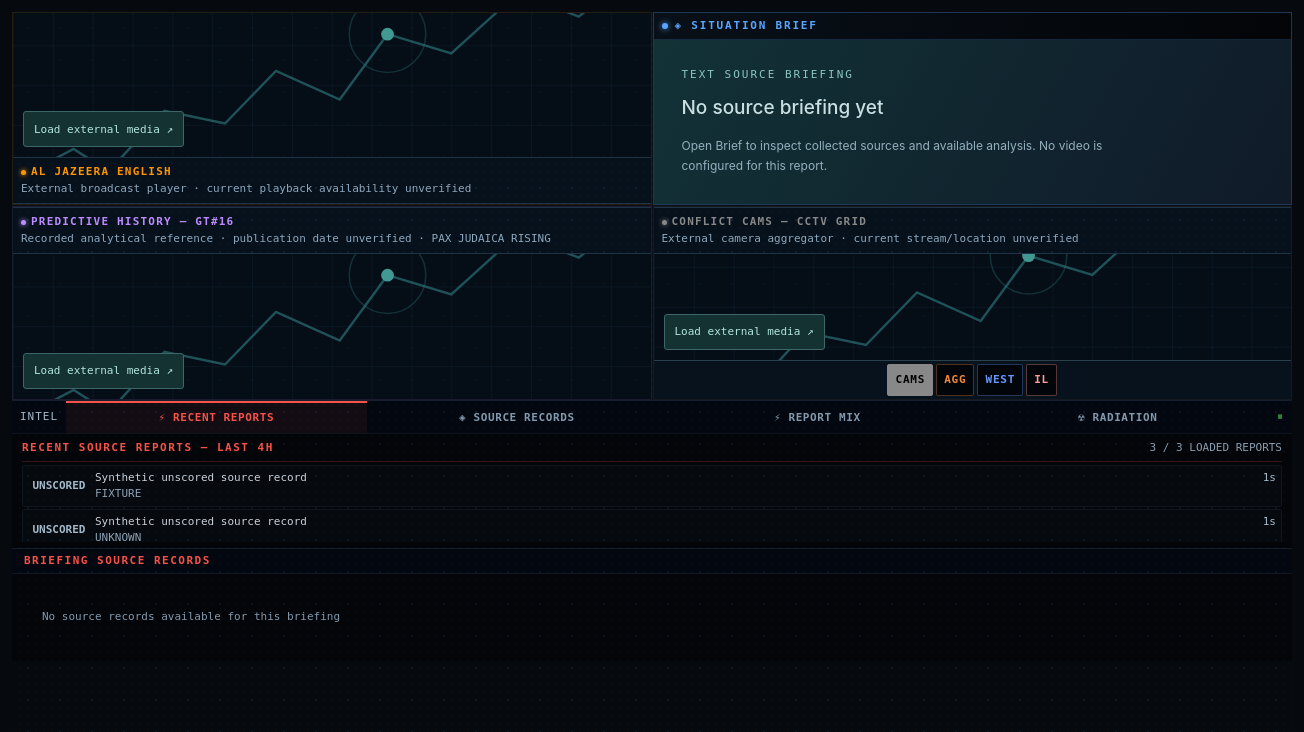
Scenario: optional media truth and failure states › distinguishes sensor/other families and includes unscored records in report mix
What coordinates should you click on to do the following:
click the button "◈ SOURCE RECORDS"
I would click on:
 (517, 417)
Its box is [367,401,667,433].
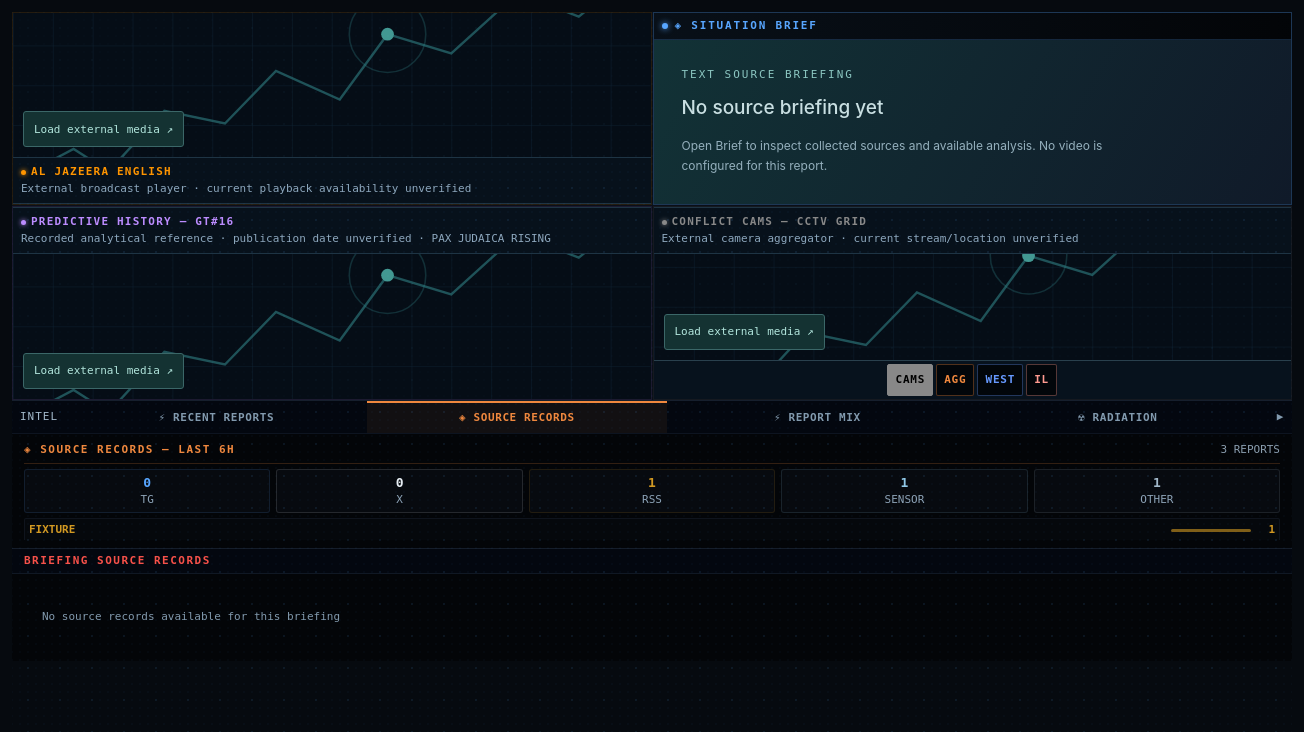
Check: the text "SENSOR" is shown, box [884,493,924,506]
Check: the text "OTHER" is shown, box [1140,493,1173,506]
What coordinates should you click on to do the following:
click the button "⚡ REPORT MIX"
I would click on:
 (817, 417)
Its box is [667,401,968,433].
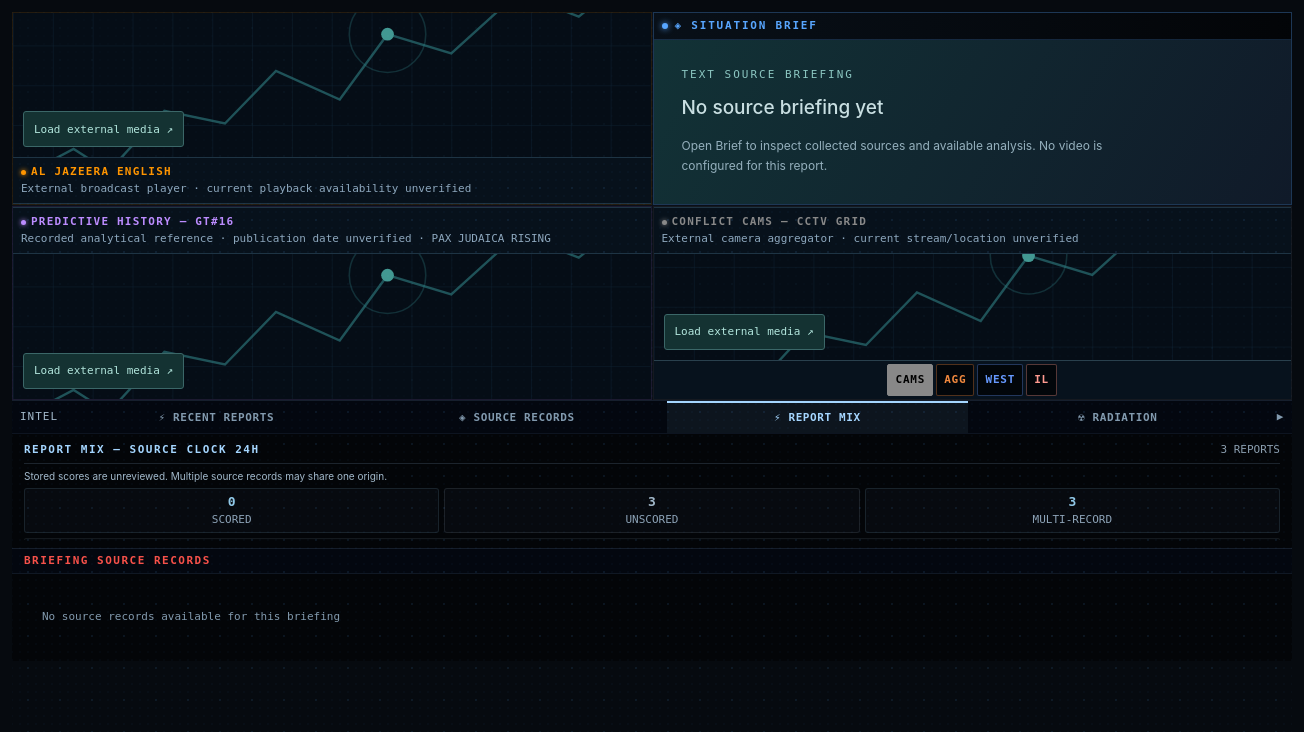
Check: the text "UNSCORED" is shown, box [626,513,678,526]
